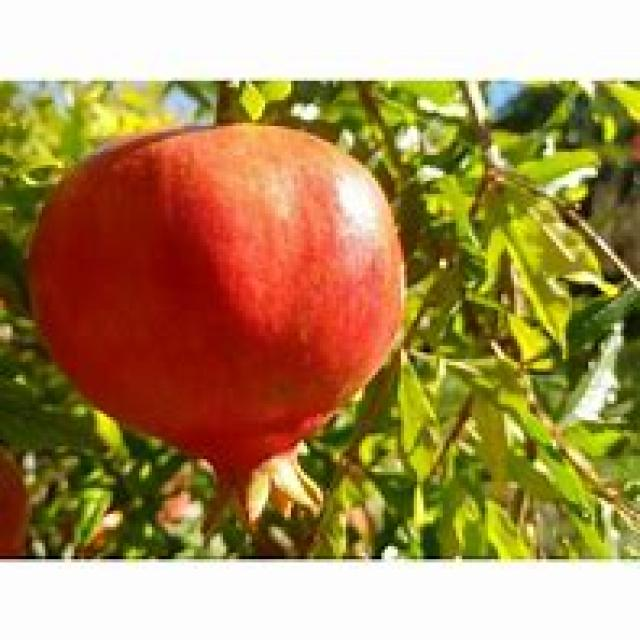Pomegranate: (27, 119, 411, 526)
